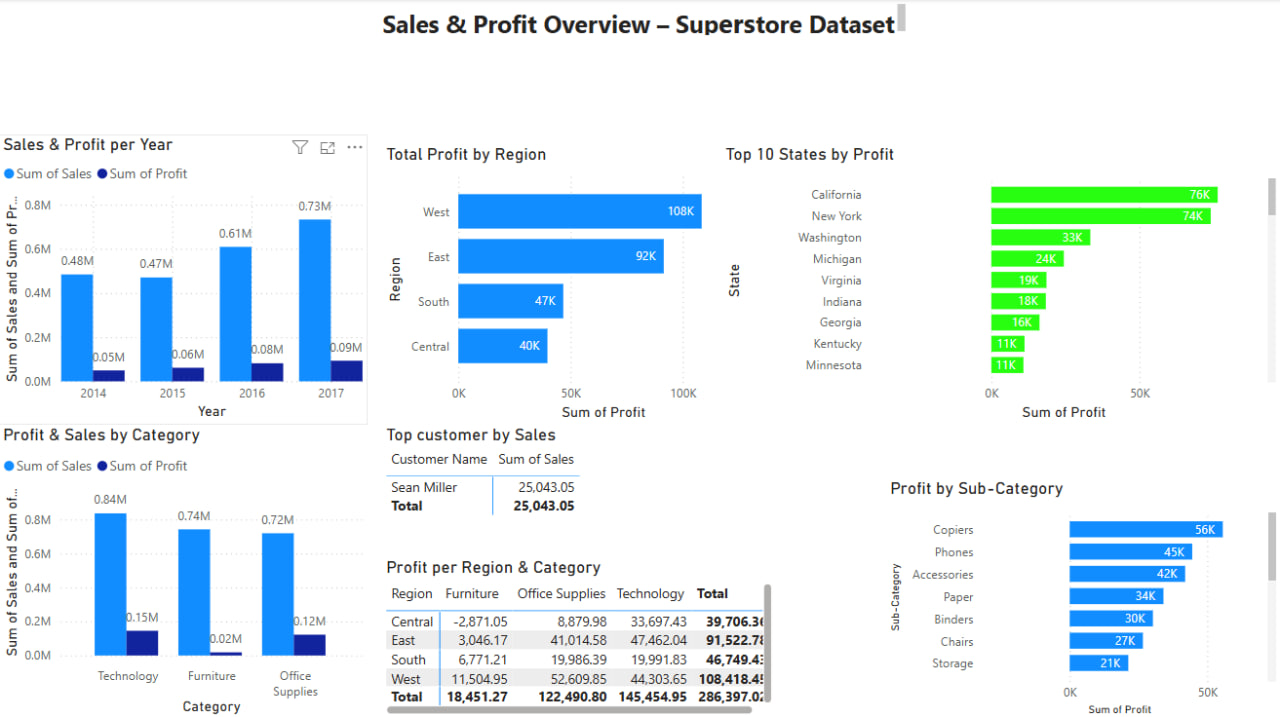

The dashboard page shown, as its layout file describes it:
{"tool":"powerbi","page":{"name":"Page 1","canvas":[1280,720],"ordinal":0},"visuals":[{"type":"clusteredColumnChart","title":"Sales & Profit per Year","fields":{"Category":["SalesData.Year"],"Y":["SalesData.Sales","SalesData.Profit"]},"box":[0,135.2,368.6,289.8],"z":0},{"type":"barChart","title":"Total Profit by Region","fields":{"Category":["SalesData.Region"],"Y":["SalesData.Profit"]},"box":[382.2,144.9,386.1,280.1],"z":1000},{"type":"barChart","title":"Top 10 States by Profit","fields":{"Category":["SalesData.State"],"Y":["SalesData.Profit"]},"box":[720.7,144.9,559.3,280.1],"z":2000},{"type":"clusteredColumnChart","title":"Profit & Sales by Category","fields":{"Category":["SalesData.Category"],"Y":["SalesData.Sales","SalesData.Profit"]},"box":[0,425,368.6,294.7],"z":3000},{"type":"pivotTable","title":"Top customer by Sales","fields":{"Rows":["SalesData.Customer Name"],"Values":["SalesData.Sales"]},"box":[382.2,425,203.3,115.7],"z":4000},{"type":"pivotTable","title":"Profit per Region & Category","fields":{"Rows":["SalesData.Region"],"Columns":["SalesData.Category"],"Values":["SalesData.Profit"]},"box":[382.2,557.3,394.9,162.4],"z":5000},{"type":"clusteredBarChart","title":"Profit by Sub-Category","fields":{"Category":["SalesData.Sub-Category"],"Y":["SalesData.Profit"]},"box":[885.1,478.5,394.9,241.2],"z":6000},{"type":"textbox","box":[378.4,0,532,40.9],"z":7000}]}

Visuals, with their boxes in screenshot pixels (x1, y1, x2, y2), scaled from the page's 1280x720 canvas onto the 1280x717 screenshot:
"Sales & Profit per Year" clusteredColumnChart: (0,135,369,423)
"Total Profit by Region" barChart: (382,144,768,423)
"Top 10 States by Profit" barChart: (721,144,1279,423)
"Profit & Sales by Category" clusteredColumnChart: (0,423,369,716)
"Top customer by Sales" pivotTable: (382,423,586,538)
"Profit per Region & Category" pivotTable: (382,555,777,716)
"Profit by Sub-Category" clusteredBarChart: (885,477,1279,716)
textbox: (378,0,910,41)
